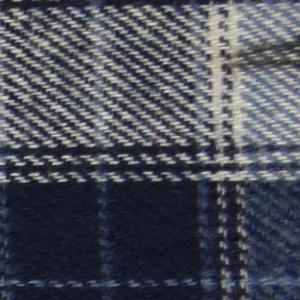Stain: (217, 37, 300, 75)
